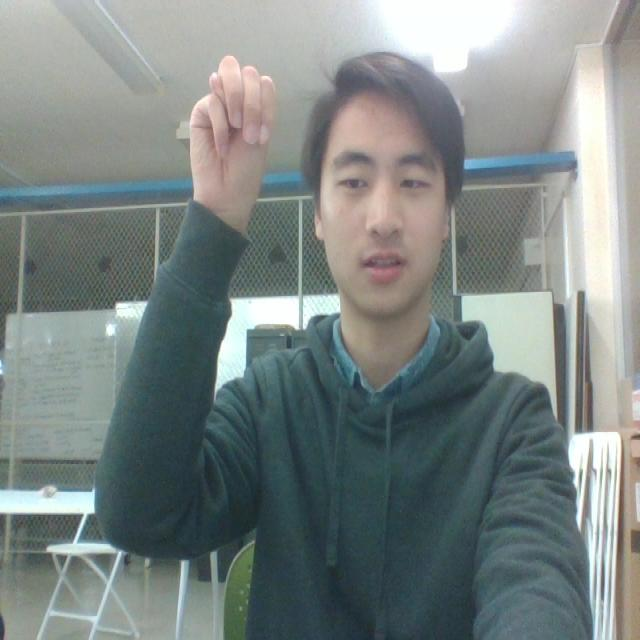M: (179, 36, 302, 230)
